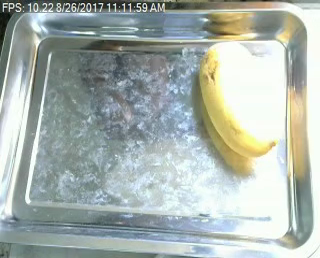Mango: (197, 42, 278, 164)
